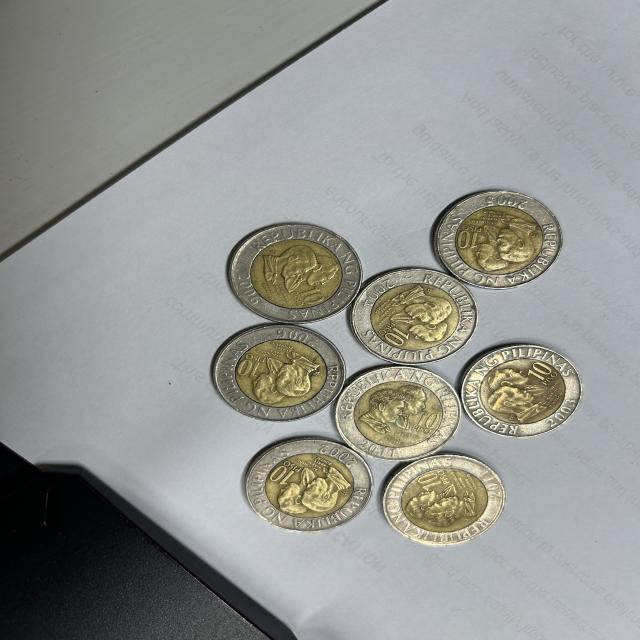10_Old_Front: (454, 229, 481, 253), (302, 285, 329, 305), (528, 362, 558, 380), (267, 463, 292, 484), (416, 410, 443, 428), (416, 471, 444, 488), (385, 326, 410, 345), (237, 359, 260, 376)
